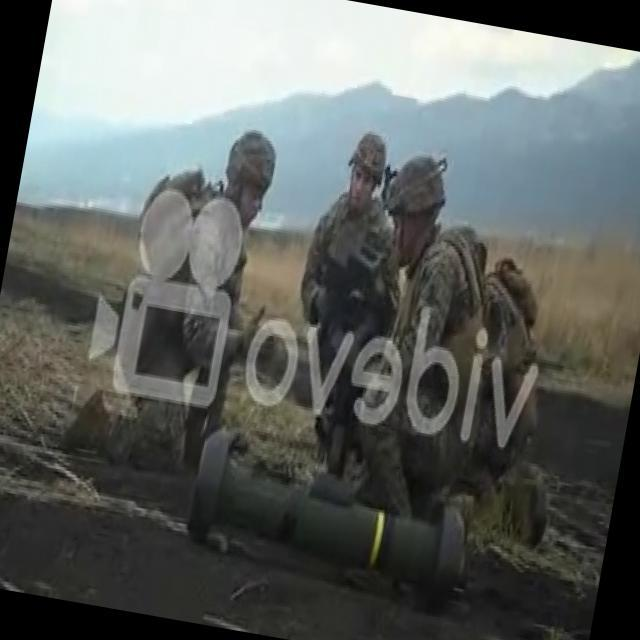rocket: (173, 423, 476, 614)
